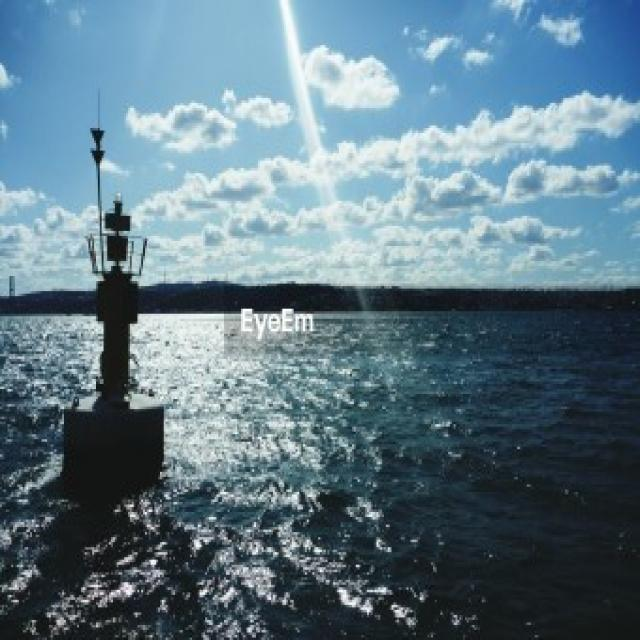marque: (55, 91, 178, 500)
